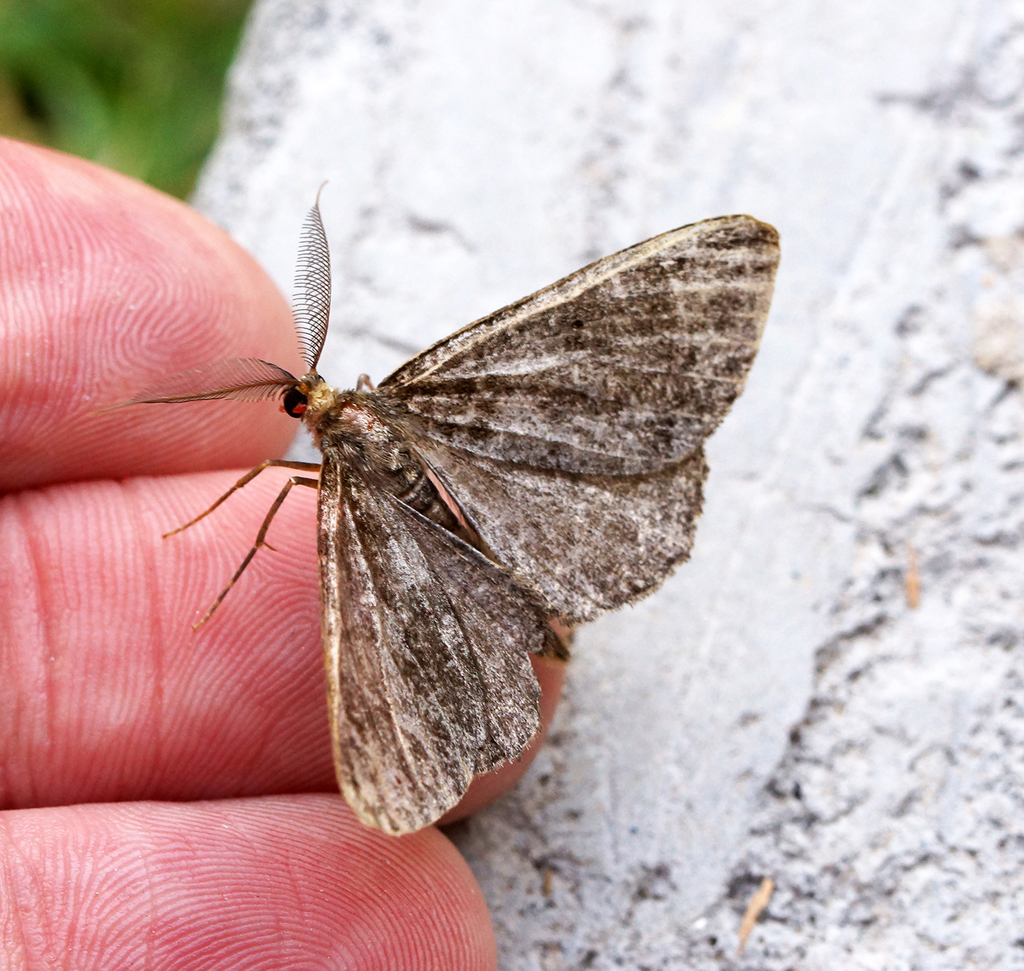Butterfly: (138, 134, 810, 845)
